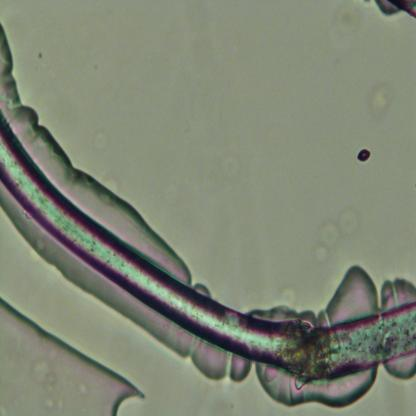Air bubble: (22, 97, 185, 278), (0, 296, 147, 415), (259, 364, 381, 408), (0, 16, 39, 130), (312, 263, 382, 323), (378, 265, 416, 313), (190, 340, 228, 381), (382, 351, 416, 382), (228, 352, 252, 382)
Background material: (316, 206, 362, 262), (373, 0, 416, 20), (354, 144, 372, 164)
Microfibre: (0, 112, 416, 376)
